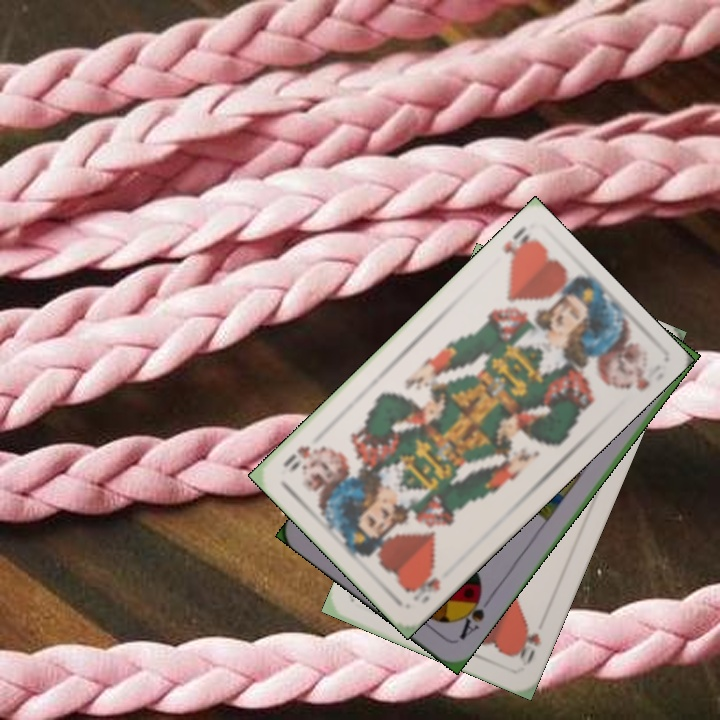HO: (511, 619, 544, 669), (403, 567, 443, 607), (500, 222, 533, 270)
SA: (453, 586, 487, 643)
